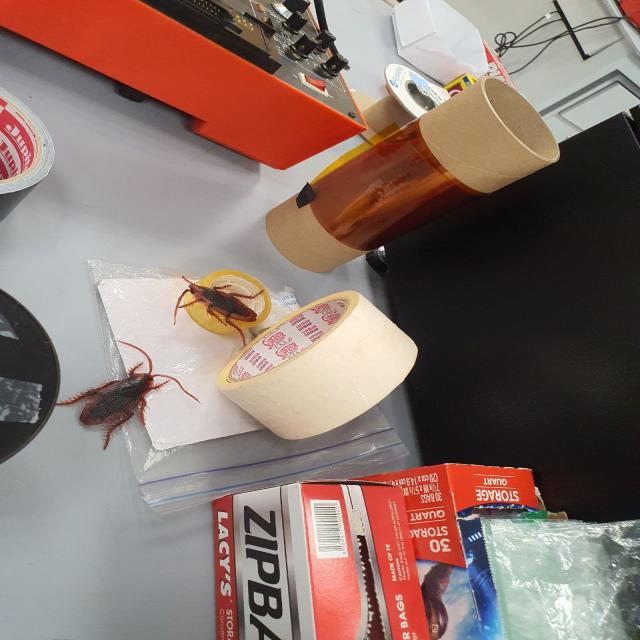Cockroach: (47, 341, 198, 453), (166, 270, 276, 344)
